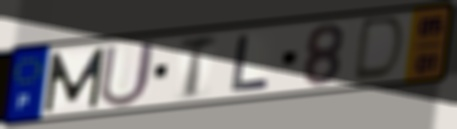8: (303, 21, 348, 88)
D: (349, 14, 408, 84)
L: (229, 32, 274, 94)
M: (42, 45, 108, 115)
T: (177, 33, 221, 102)
U: (96, 37, 159, 109)
